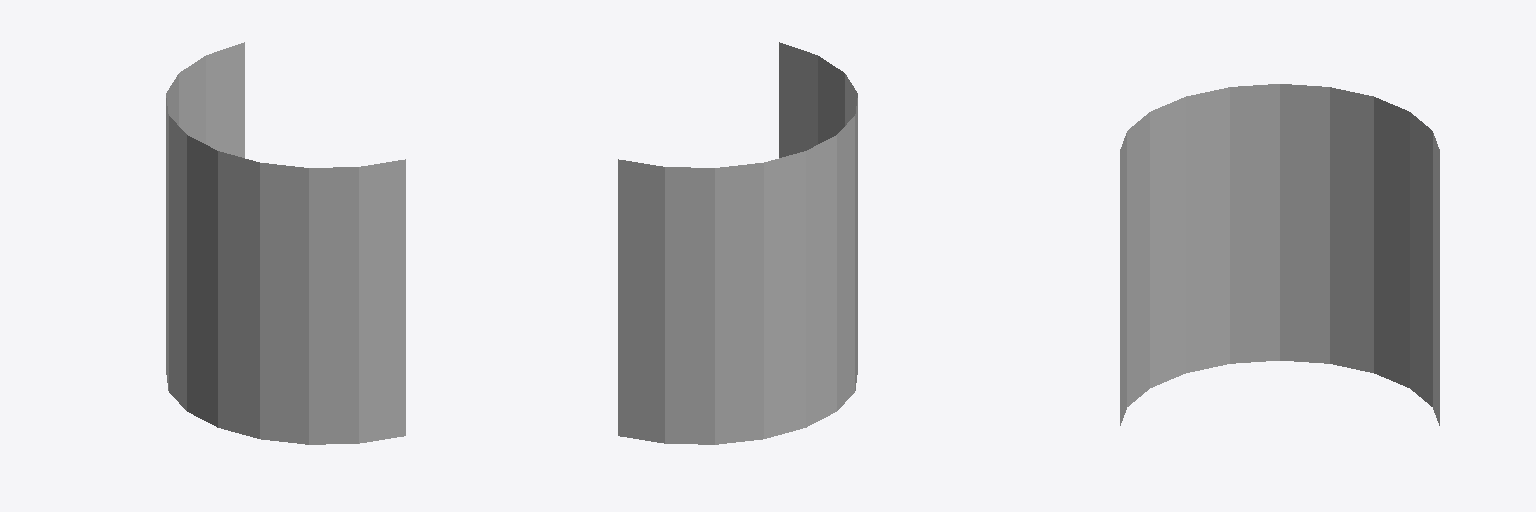
Rendered from wall-corner-inverse-double.obj.
3 renders of one model, left to right at view 1: azimuth 30°, elevation 25°; view 2: azimuth 150°, elevation 25°; view 3: azimuth 270°, elevation 25°, orthographic.
Bounding box in the file's own units: 2.1 × 4 × 4.2.